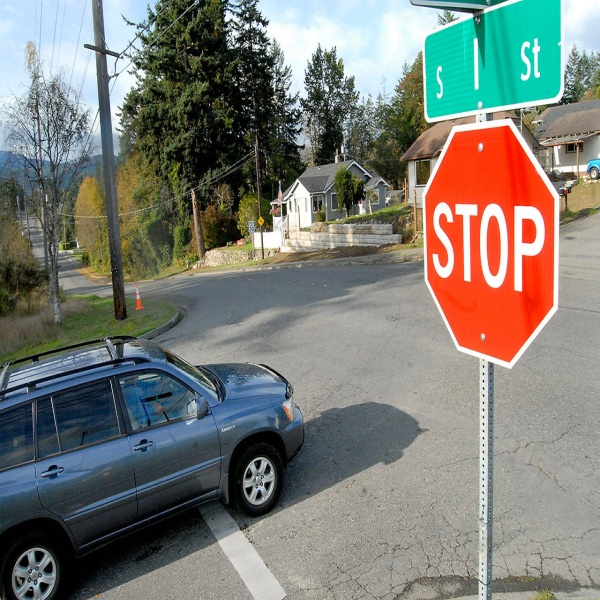stop: (412, 131, 556, 364)
